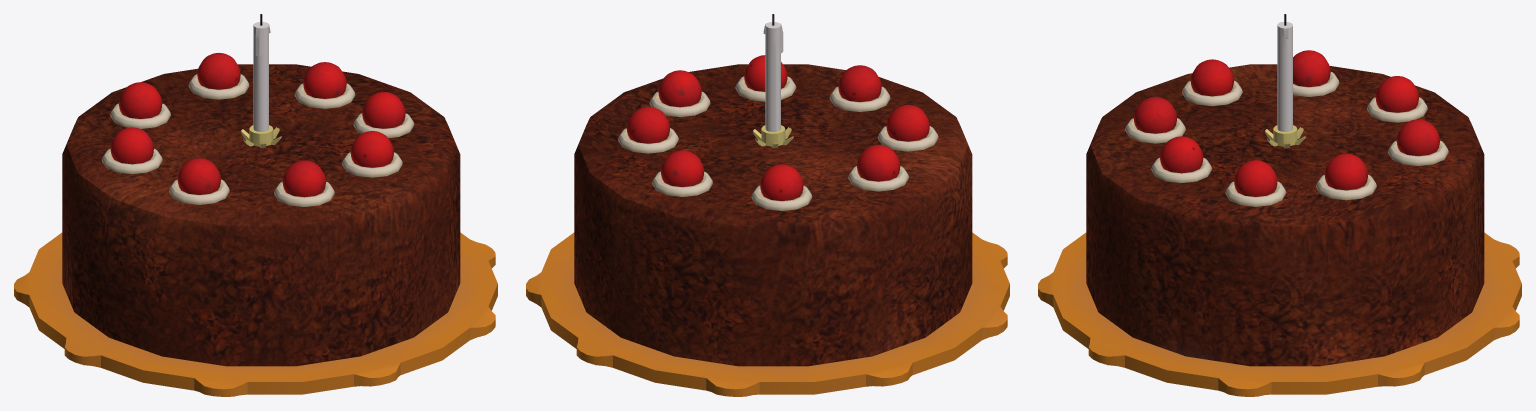
Rendered from cake.glb.
3 views of the same model, side by side, from view 1: azimuth 30°, elevation 25°; view 2: azimuth 150°, elevation 25°; view 3: azimuth 270°, elevation 25° (orthographic).
Visible parts, largest first — view 1: Cake_2; view 2: Cake_2; view 3: Cake_2.
Boxes of the visible parts, x1,y1,x2,y2 form: Cake_2: (14,14,497,396); Cake_2: (526,14,1009,396); Cake_2: (1038,14,1521,396).
Size of the model in its own units: 2.07 by 1.31 by 2.04.
1 material, 1 textured.
